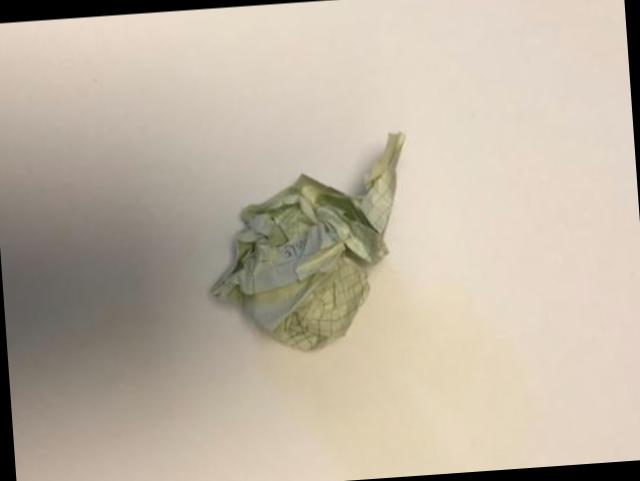cardboard paper: (209, 130, 408, 354)
